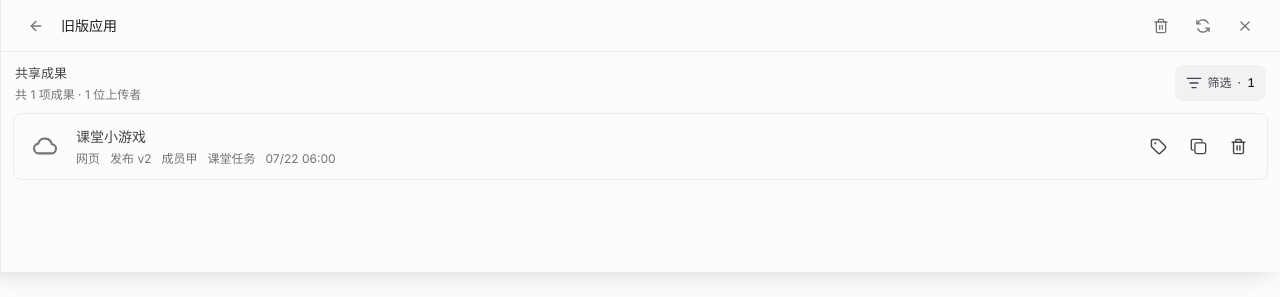
CloudArtifactsPanel › does not show copy success when the clipboard rejects the request
Click the button named "复制 课堂小游戏 链接" at (1198, 146), box [1181, 129, 1215, 163]
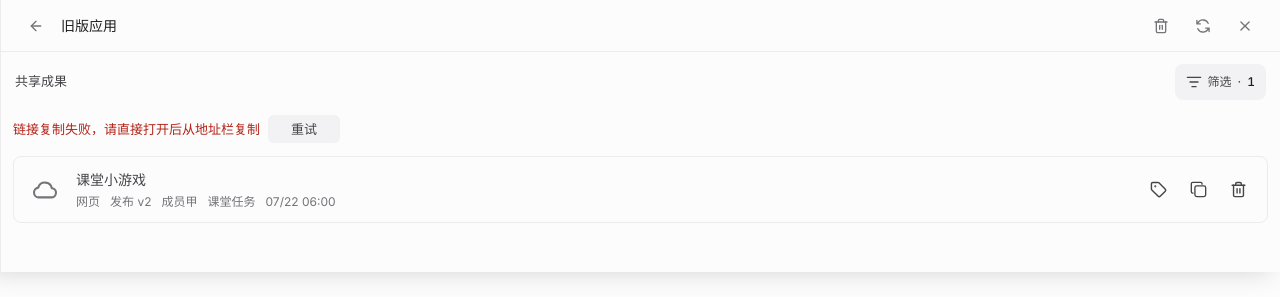
expect the text "链接复制失败" is shown: met, box [13, 121, 260, 137]
